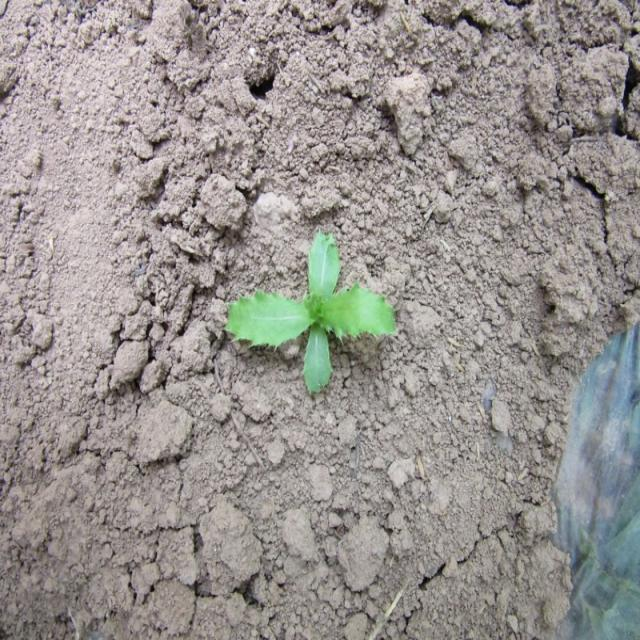field_thistle: (234, 247, 394, 402)
